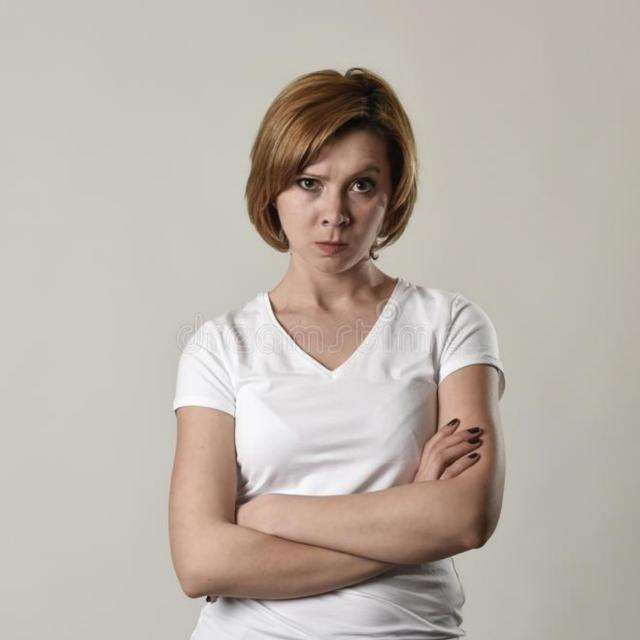Angry: (252, 112, 480, 379)
